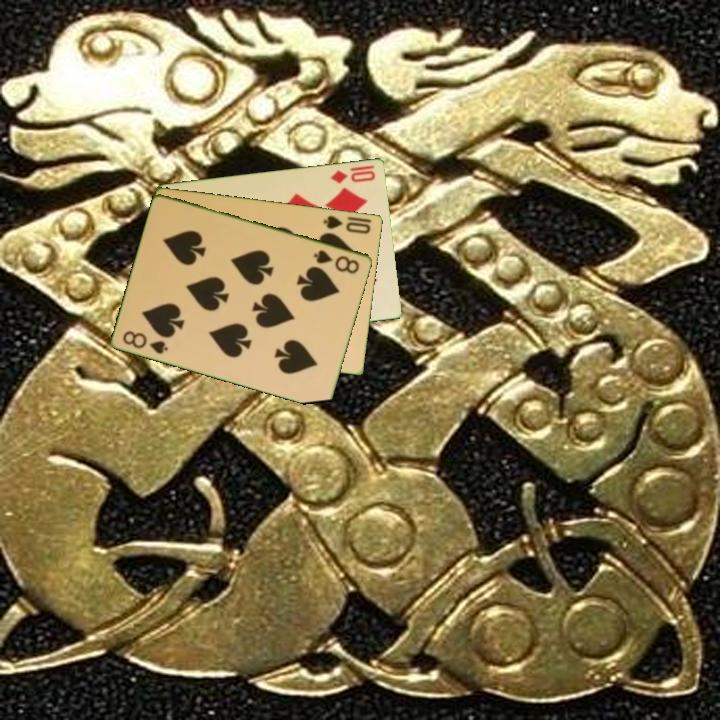10d: (327, 167, 378, 186)
10s: (320, 211, 373, 236)
8s: (310, 246, 363, 277), (119, 327, 171, 357)
